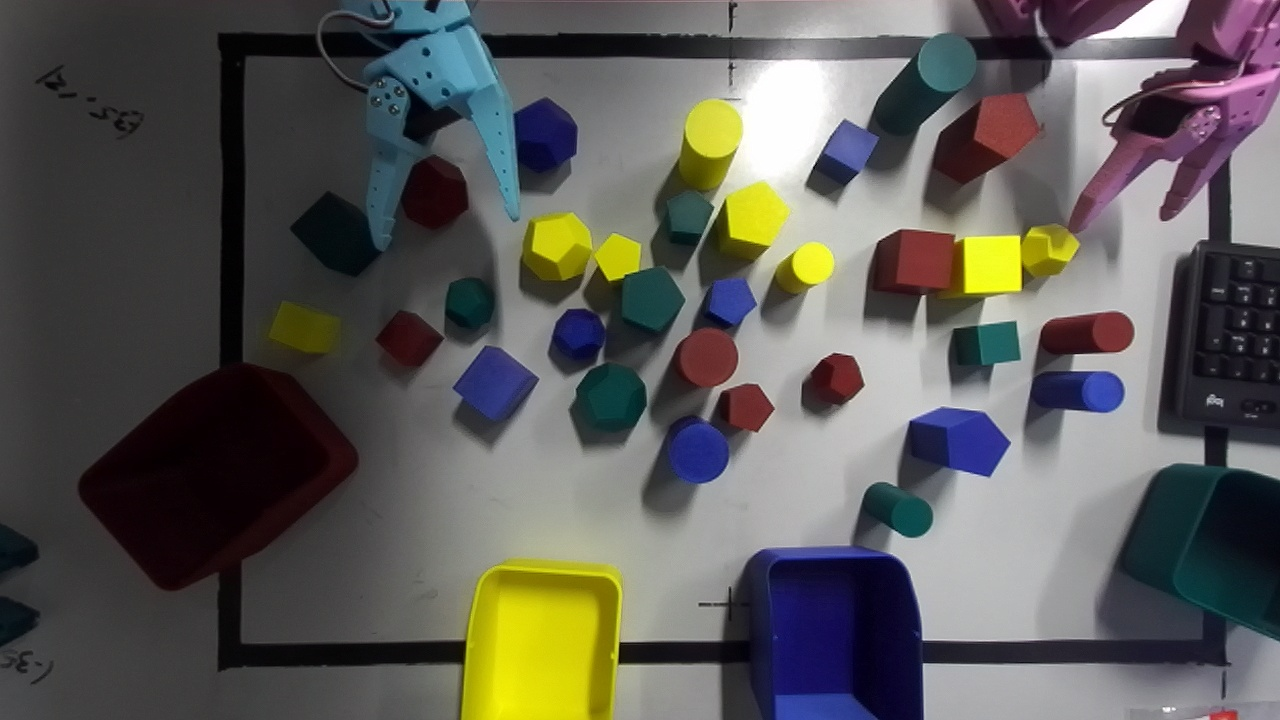bin: (78, 364, 357, 590), (747, 546, 922, 719), (1119, 464, 1279, 639), (461, 559, 622, 719)
cube: (290, 191, 380, 275), (452, 345, 538, 420), (871, 229, 954, 294), (938, 235, 1021, 298), (813, 119, 878, 184), (376, 310, 443, 366), (268, 301, 340, 353), (952, 321, 1020, 365)
cylinder: (872, 33, 976, 134), (678, 99, 742, 189), (667, 416, 728, 483), (1040, 311, 1133, 354), (1030, 371, 1124, 412), (862, 482, 932, 537), (672, 328, 737, 386), (773, 242, 833, 293)
dodecahedron: (401, 156, 468, 229), (522, 212, 591, 280), (514, 97, 577, 171), (577, 363, 646, 430), (1021, 224, 1078, 276), (810, 353, 864, 403)
hexagonal: (933, 94, 1040, 183), (907, 407, 1010, 476), (713, 181, 789, 259), (621, 267, 684, 331), (717, 384, 774, 431), (552, 309, 605, 359), (701, 278, 756, 325), (445, 277, 494, 329), (666, 191, 713, 244), (594, 234, 640, 281)
